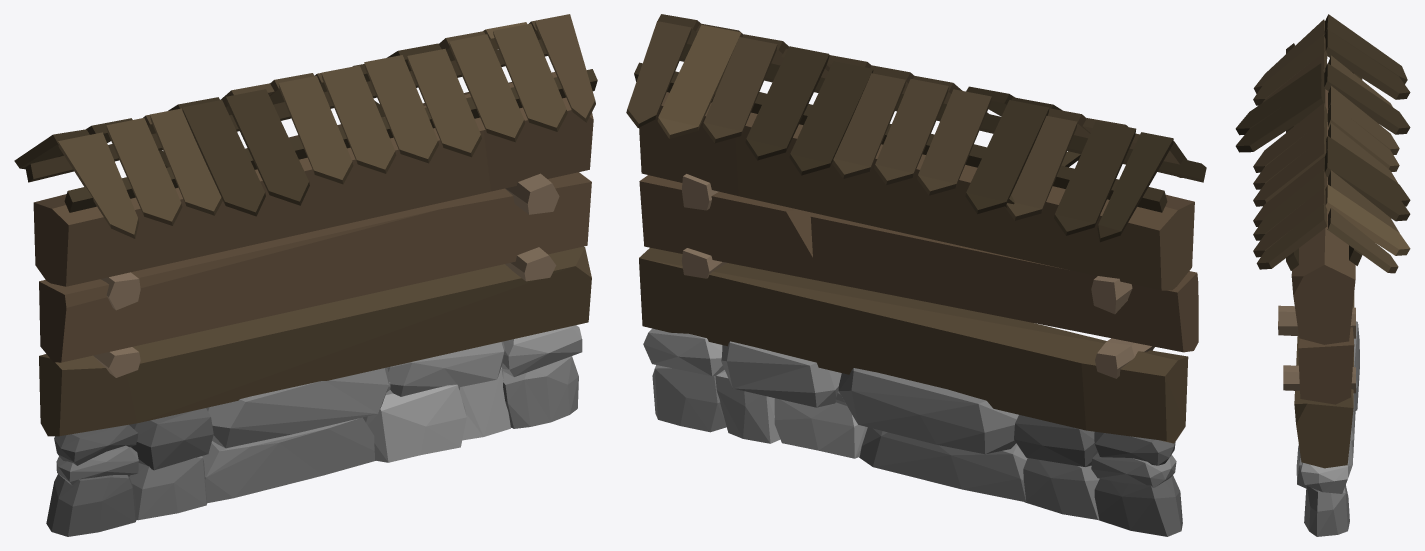
Rendered from EA03_Fence_Wall_01b.fbx.
3 views of the same model, side by side, from view 1: azimuth 30°, elevation 25°; view 2: azimuth 150°, elevation 25°; view 3: azimuth 270°, elevation 25° (orthographic). The views are drawn at different scales.
Parts seen in each view (by area): view 1: EA03_Fence_Wall_01b_LOD0; view 2: EA03_Fence_Wall_01b_LOD0; view 3: EA03_Fence_Wall_01b_LOD0.
Boxes of the visible parts, left/top/right/bottom form: EA03_Fence_Wall_01b_LOD0: left=14, top=14, right=597, bottom=536; EA03_Fence_Wall_01b_LOD0: left=626, top=14, right=1206, bottom=536; EA03_Fence_Wall_01b_LOD0: left=1235, top=14, right=1410, bottom=536.
Size of what is drawn, in the model's own units: 5 by 3.55 by 1.76.
